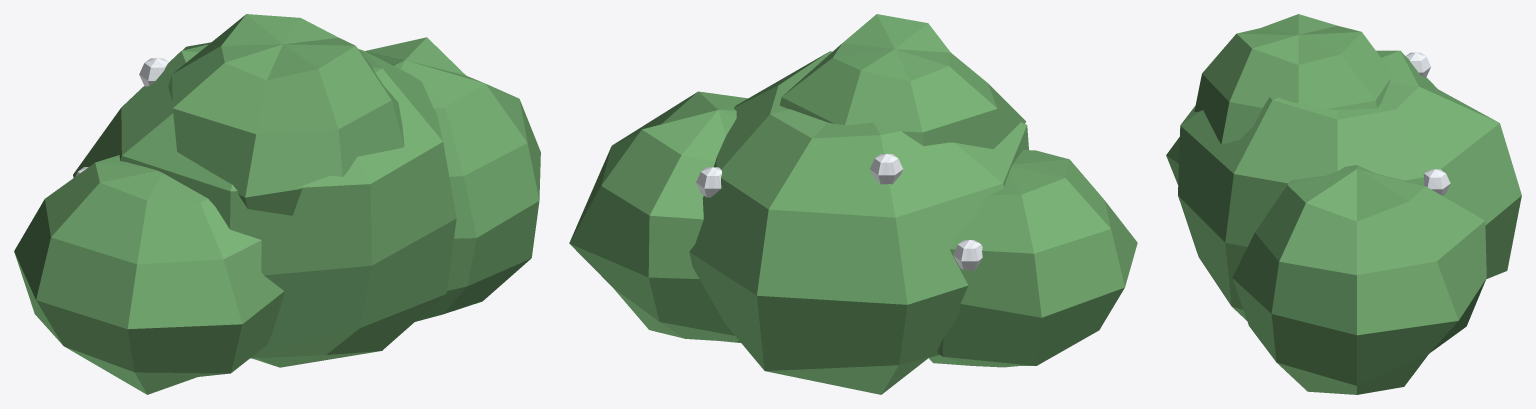
File: Bush_A_lod.glb
3 renders of one model, left to right at view 1: azimuth 30°, elevation 25°; view 2: azimuth 150°, elevation 25°; view 3: azimuth 270°, elevation 25°, orthographic. The views are drawn at different scales.
Visible parts, largest first — view 1: Bush; view 2: Bush; view 3: Bush.
Boxes of the visible parts, x1,y1,x2,y2 form: Bush: [14, 14, 540, 394]; Bush: [569, 14, 1137, 394]; Bush: [1166, 14, 1521, 394].
Size of what is drawn, in the model's own units: 1.38 by 0.8624 by 0.912.
Materials: 2 (1 with a texture image).
